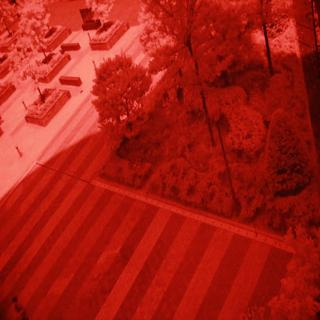person: (3, 291, 40, 320)
